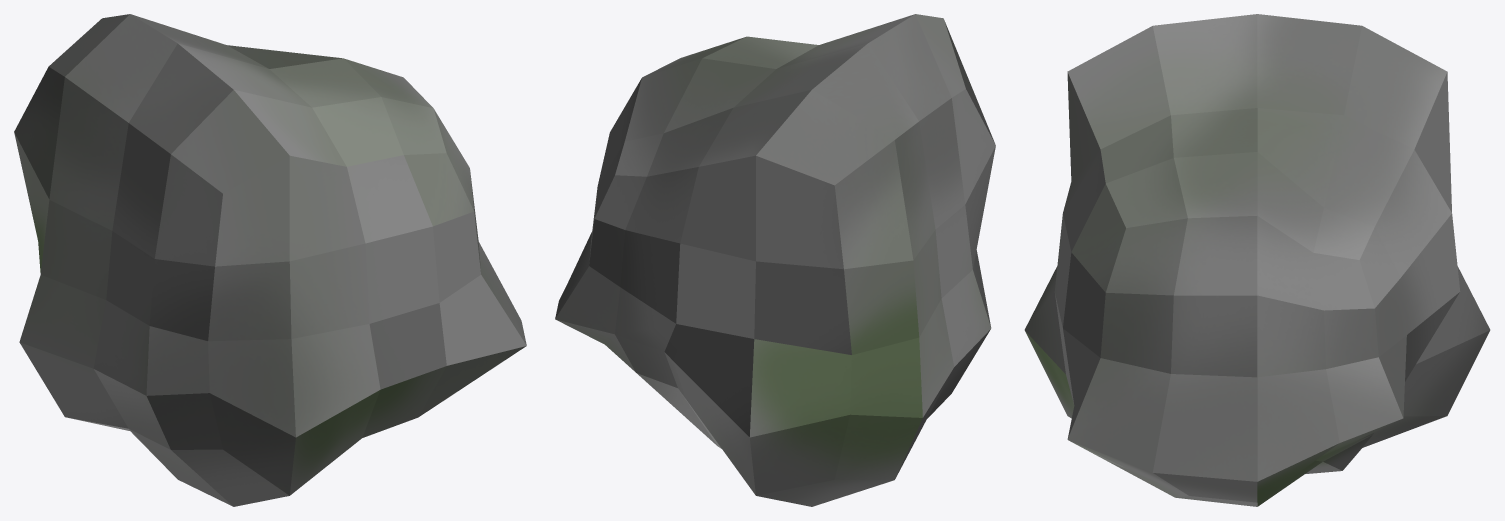
Rendered from piedra3.fbx.
The picture shows the model from 3 angles, left to right: view 1: azimuth 30°, elevation 25°; view 2: azimuth 150°, elevation 25°; view 3: azimuth 270°, elevation 25°; orthographic projection.
Visible parts, largest first — view 1: piedra3; view 2: piedra3; view 3: piedra3.
Part boxes in pixels (x1=…): piedra3: x1=14, y1=14, x2=526, y2=506; piedra3: x1=555, y1=14, x2=995, y2=506; piedra3: x1=1024, y1=14, x2=1490, y2=506.
Size of the model in its own units: 290 by 296 by 283.
Materials: 1 (1 with a texture image).
